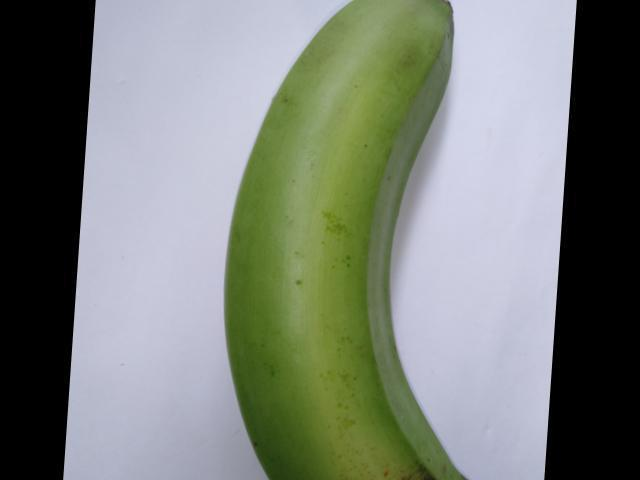freshunripe: (193, 0, 496, 479)
